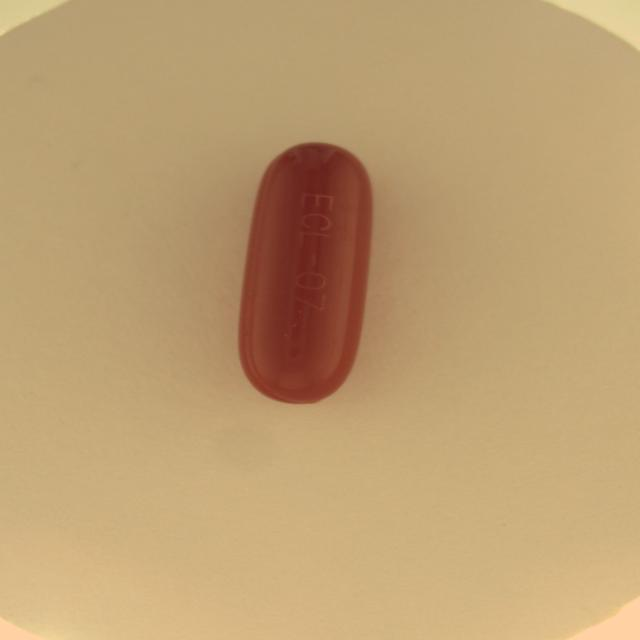Oval: (238, 142, 371, 406)
